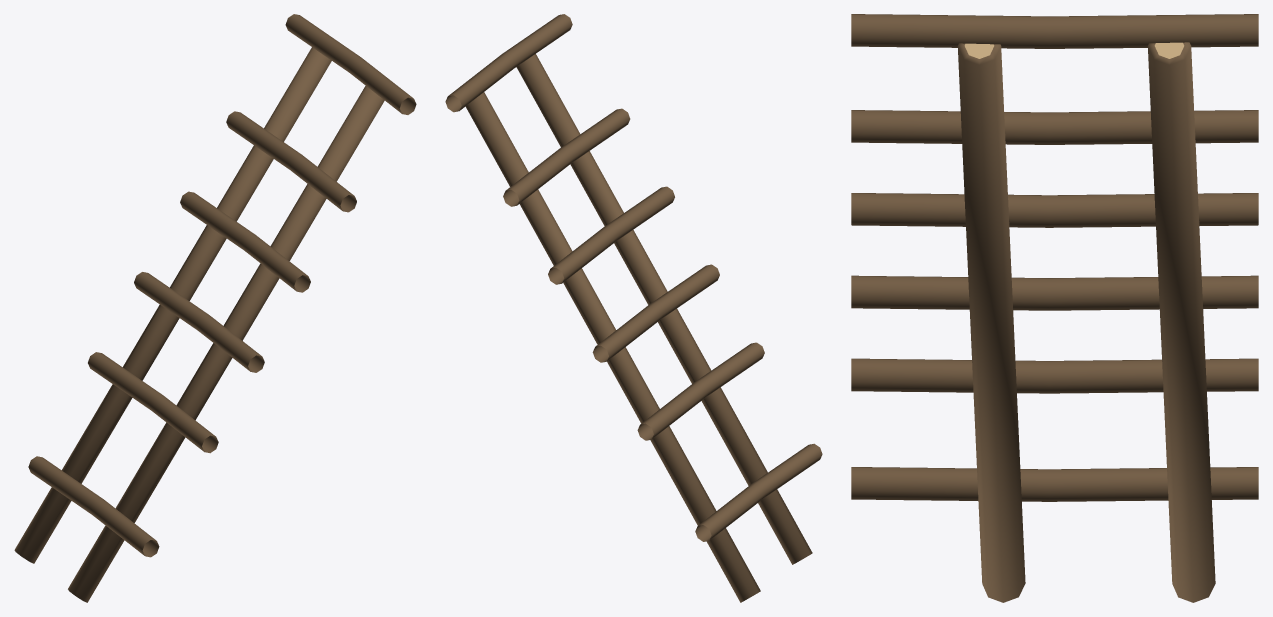
File: rpgpp_ag_roof_support_01_6x5x3_roof_01b_half_a.fbx
The picture shows the model from 3 angles, left to right: view 1: azimuth 30°, elevation 25°; view 2: azimuth 150°, elevation 25°; view 3: azimuth 270°, elevation 25°; orthographic projection. The views are drawn at different scales.
Visible parts, largest first — view 1: rpgpp_ag_roof_support_01_6x5x3_roof_01b_half_a; view 2: rpgpp_ag_roof_support_01_6x5x3_roof_01b_half_a; view 3: rpgpp_ag_roof_support_01_6x5x3_roof_01b_half_a.
Part boxes in pixels (x1,y1,x2,y2): rpgpp_ag_roof_support_01_6x5x3_roof_01b_half_a: [14, 14, 416, 602]; rpgpp_ag_roof_support_01_6x5x3_roof_01b_half_a: [445, 14, 822, 602]; rpgpp_ag_roof_support_01_6x5x3_roof_01b_half_a: [851, 14, 1258, 602].
Size of the model in its own units: 4.77 by 6.76 by 3.
